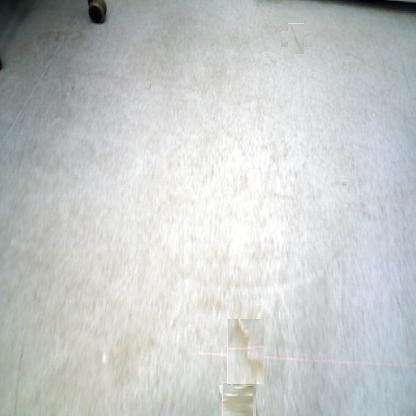liquid: (227, 320, 264, 386), (220, 383, 254, 416)
mark: (285, 27, 308, 51), (262, 52, 277, 67), (341, 180, 348, 188), (69, 84, 75, 92), (146, 82, 152, 90)
